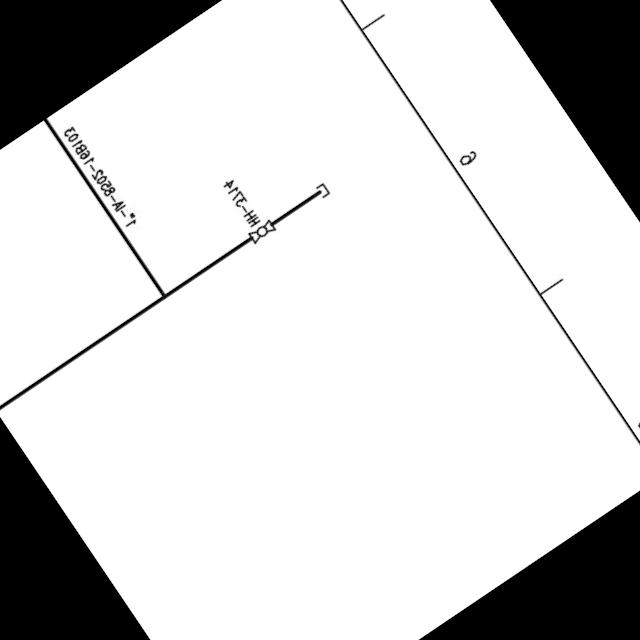BV2: (242, 215, 280, 250)
EC: (287, 178, 334, 218)
